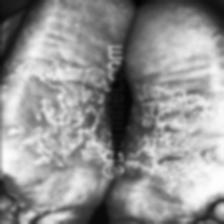Non-Cancerous Skin Condition: (22, 68, 104, 166), (124, 86, 194, 177), (6, 127, 20, 136)
